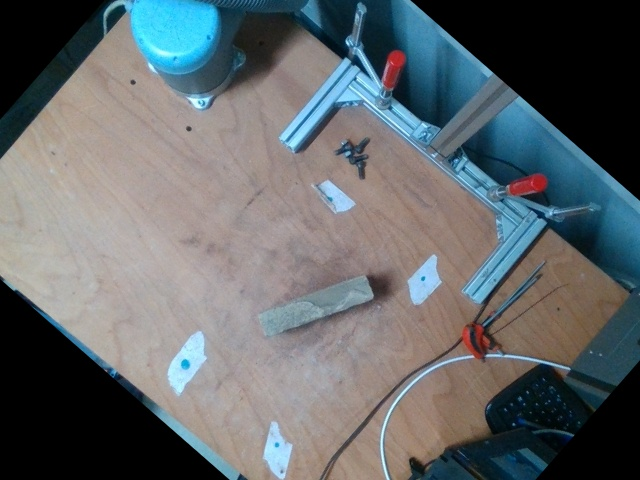brick-side: (258, 277, 374, 336)
